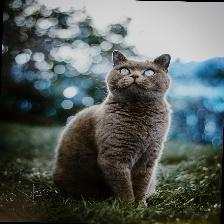kedo: (53, 50, 170, 211)
